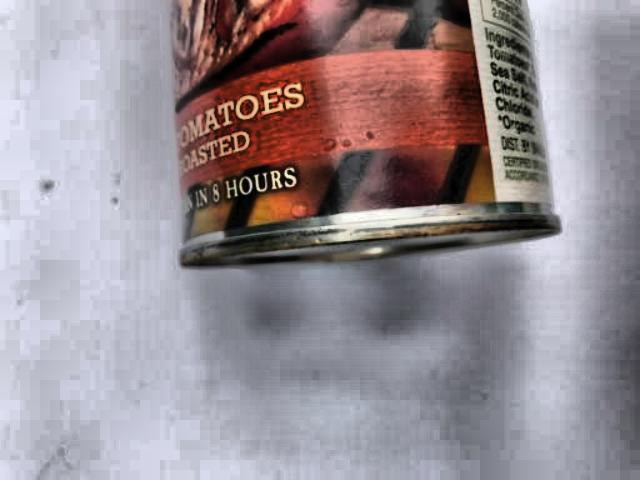Almennt: (140, 0, 575, 293)
